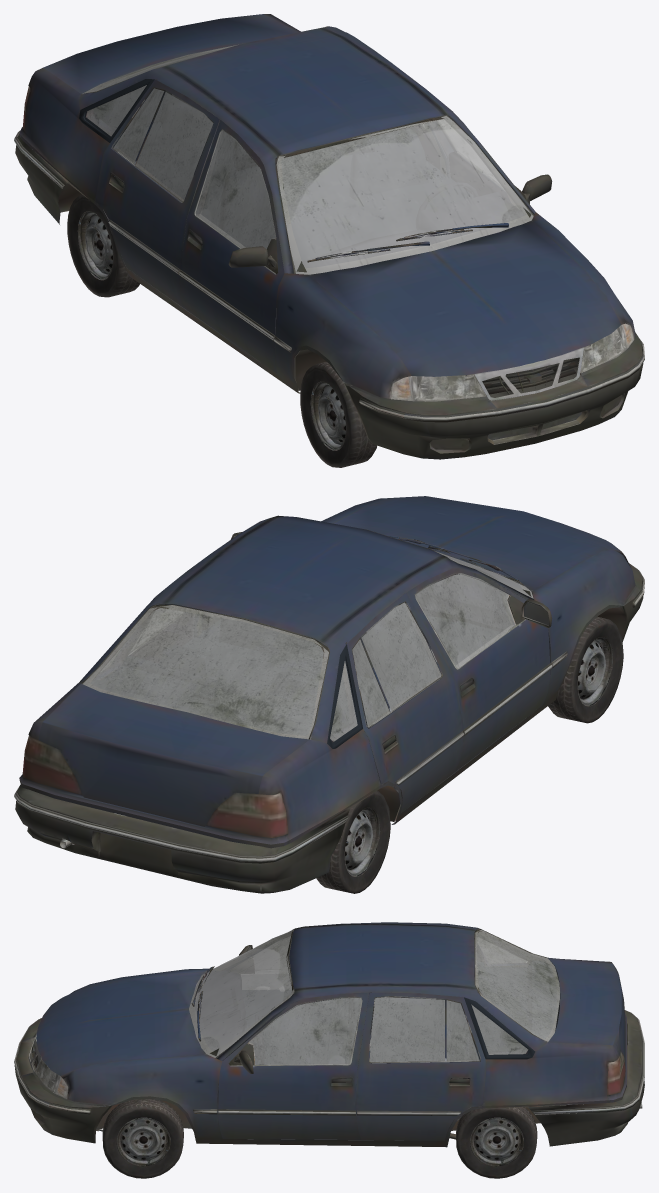
Rendered from car_nexia.glb.
3 views of the same model, one above another, from view 1: azimuth 30°, elevation 25°; view 2: azimuth 150°, elevation 25°; view 3: azimuth 270°, elevation 25° (orthographic). The views are drawn at different scales.
Parts seen in each view (by area): view 1: Plane.002_Low, Plane.054, Tire_Low.002, Tire_Low.004, Plane.001; view 2: Plane.002_Low, Plane.054, Tire_Low.002, Tire_Low.004; view 3: Plane.002_Low, Plane.054, Tire_Low.003, Tire_Low.001, Plane.001.
Boxes of the visible parts, left/top/right/bottom form: Plane.002_Low: left=14, top=14, right=644, bottom=459; Plane.054: left=83, top=44, right=533, bottom=274; Tire_Low.002: left=300, top=361, right=376, bottom=467; Tire_Low.004: left=67, top=194, right=139, bottom=297; Plane.001: left=390, top=323, right=633, bottom=401; Plane.002_Low: left=14, top=496, right=644, bottom=893; Plane.054: left=83, top=551, right=533, bottom=741; Tire_Low.002: left=548, top=616, right=623, bottom=723; Tire_Low.004: left=316, top=790, right=390, bottom=893; Plane.002_Low: left=14, top=922, right=644, bottom=1147; Plane.054: left=189, top=930, right=559, bottom=1057; Tire_Low.003: left=102, top=1099, right=183, bottom=1178; Tire_Low.001: left=456, top=1107, right=537, bottom=1178; Plane.001: left=35, top=1059, right=68, bottom=1098.
Size of the model in its own units: 1.85 by 1.3 by 4.14.
Materials: 3 (3 with a texture image).
